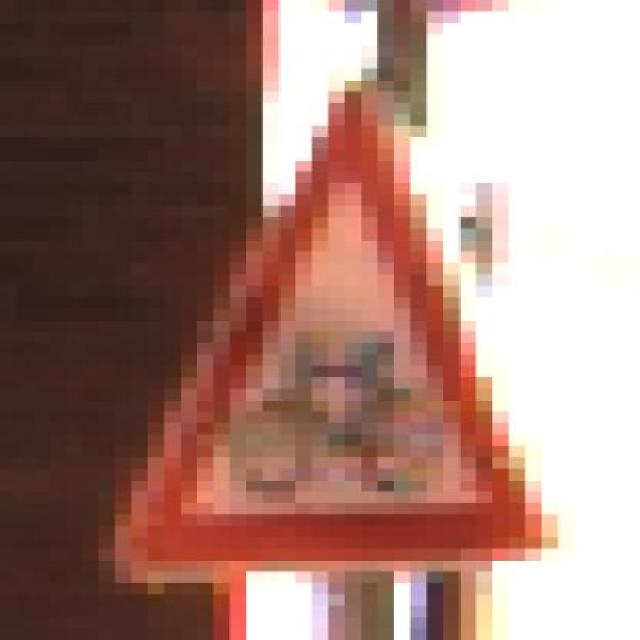CYCLE ROUTE AHEAD WARNING: (98, 80, 591, 583)
